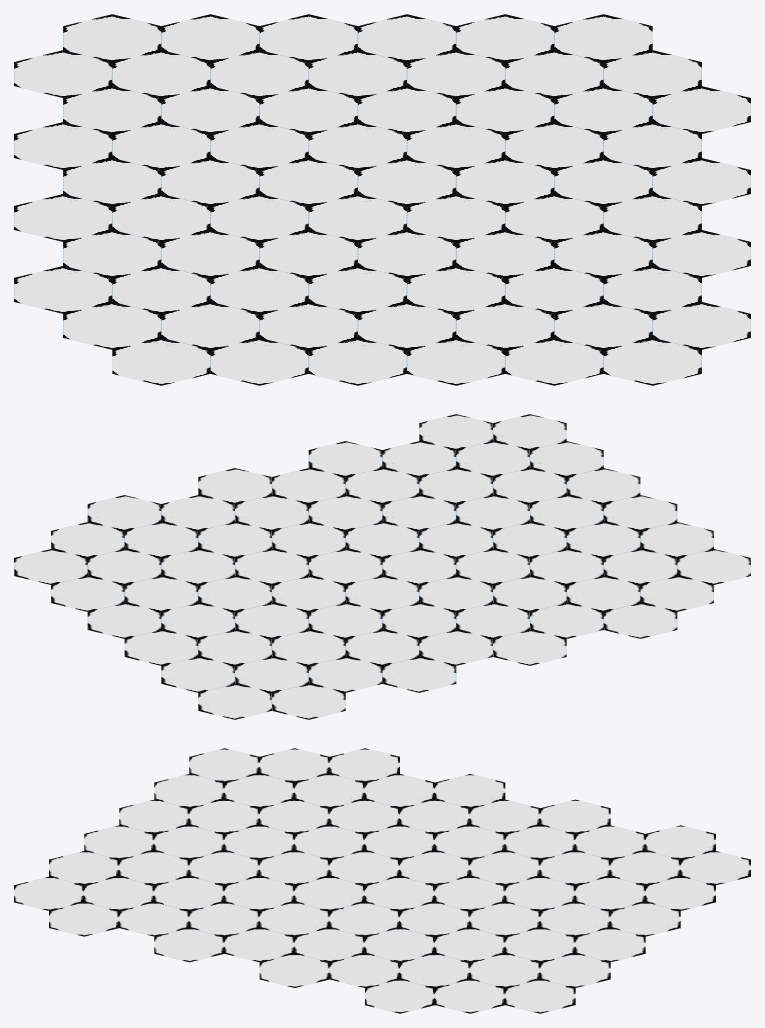
Rendered from summon_land.unity_68.obj.
The picture shows the model from 3 angles, top to bottom: view 1: azimuth 30°, elevation 25°; view 2: azimuth 150°, elevation 25°; view 3: azimuth 270°, elevation 25°; orthographic projection. The views are drawn at different scales.
Visible parts, largest first — view 1: unit, unit_start_point_B, unit_start_point_A, yellow_tower, red_tower; view 2: unit, yellow_tower, red_tower, unit_start_point_B, unit_start_point_A; view 3: unit, yellow_tower, red_tower, unit_start_point_B, unit_start_point_A.
Boxes of the visible parts, bbox=[...] form: unit: bbox=[14, 14, 750, 385]; unit_start_point_B: bbox=[554, 302, 652, 349]; unit_start_point_A: bbox=[112, 50, 210, 97]; yellow_tower: bbox=[161, 302, 259, 349]; red_tower: bbox=[505, 50, 603, 97]; unit: bbox=[14, 414, 750, 719]; yellow_tower: bbox=[603, 549, 677, 584]; red_tower: bbox=[87, 549, 161, 584]; unit_start_point_B: bbox=[456, 441, 529, 476]; unit_start_point_A: bbox=[235, 657, 308, 692]; unit: bbox=[14, 748, 750, 1013]; yellow_tower: bbox=[224, 774, 294, 808]; red_tower: bbox=[470, 953, 540, 987]; unit_start_point_B: bbox=[84, 876, 154, 910]; unit_start_point_A: bbox=[610, 851, 680, 885].
Size of the model in its own units: 62 by 0 by 72.75.
Materials: 1 (1 with a texture image).
